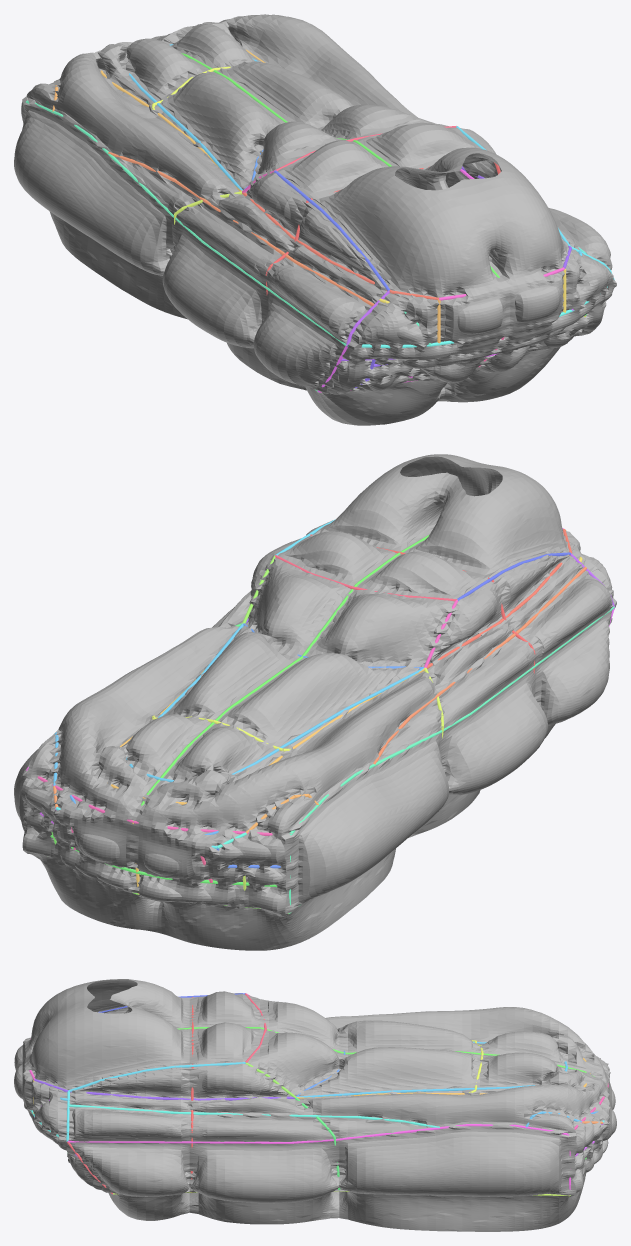
File: t2f_car_93.gltf
The picture shows the model from 3 angles, top to bottom: view 1: azimuth 30°, elevation 25°; view 2: azimuth 150°, elevation 25°; view 3: azimuth 270°, elevation 25°; orthographic projection. The views are drawn at different scales.
Bounding box in the file's own units: 0.4788 × 0.3211 × 0.9371.
